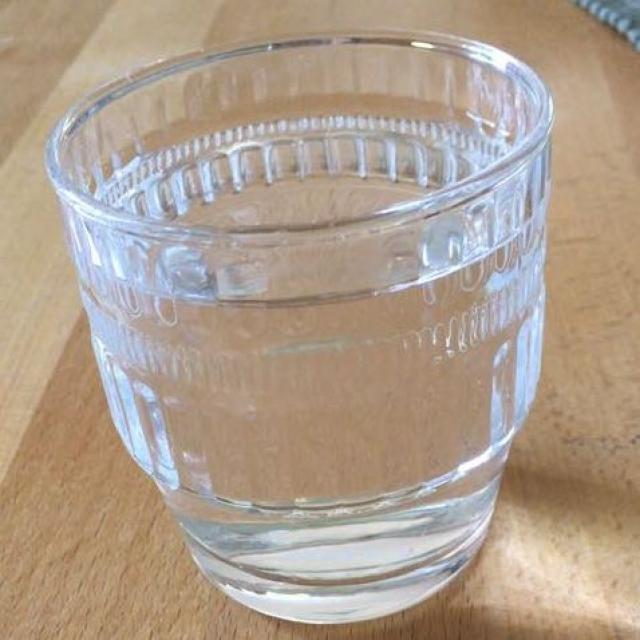water: (94, 112, 542, 589)
